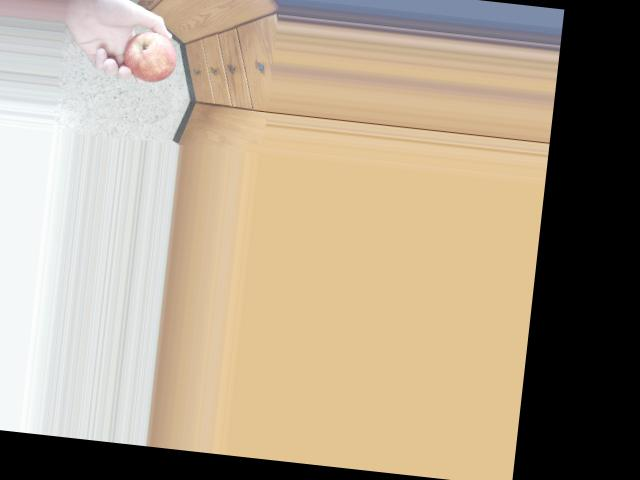apple: (106, 18, 181, 85)
